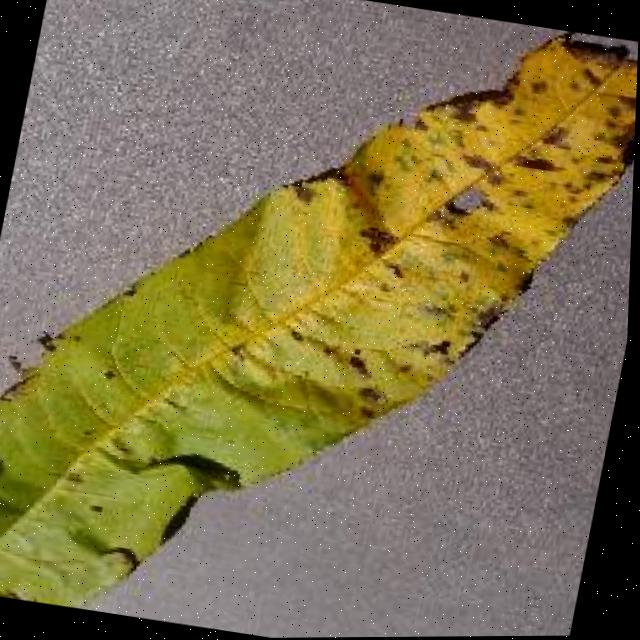Bacterial_spot: (283, 0, 640, 409)
